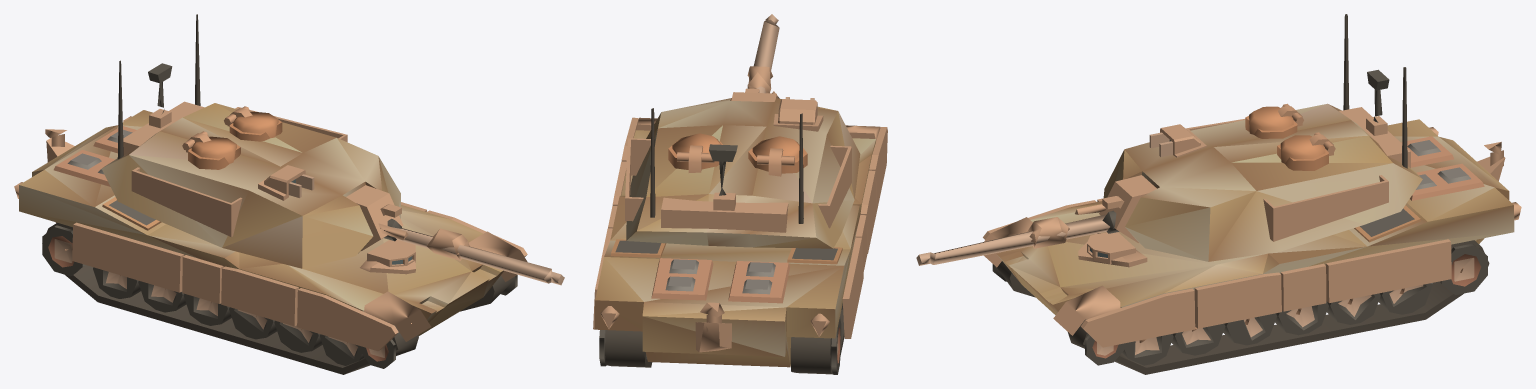
The model's file is ds_tank.glb.
The picture shows the model from 3 angles, left to right: view 1: azimuth 30°, elevation 25°; view 2: azimuth 150°, elevation 25°; view 3: azimuth 270°, elevation 25°; orthographic projection. The views are drawn at different scales.
Parts seen in each view (by area): view 1: ds_tank; view 2: ds_tank; view 3: ds_tank.
Part boxes in pixels (x1,y1,x2,y2): ds_tank: [14, 14, 564, 374]; ds_tank: [593, 14, 887, 374]; ds_tank: [916, 14, 1521, 374].
Size of the model in its own units: 7.73 by 4.94 by 11.37.
